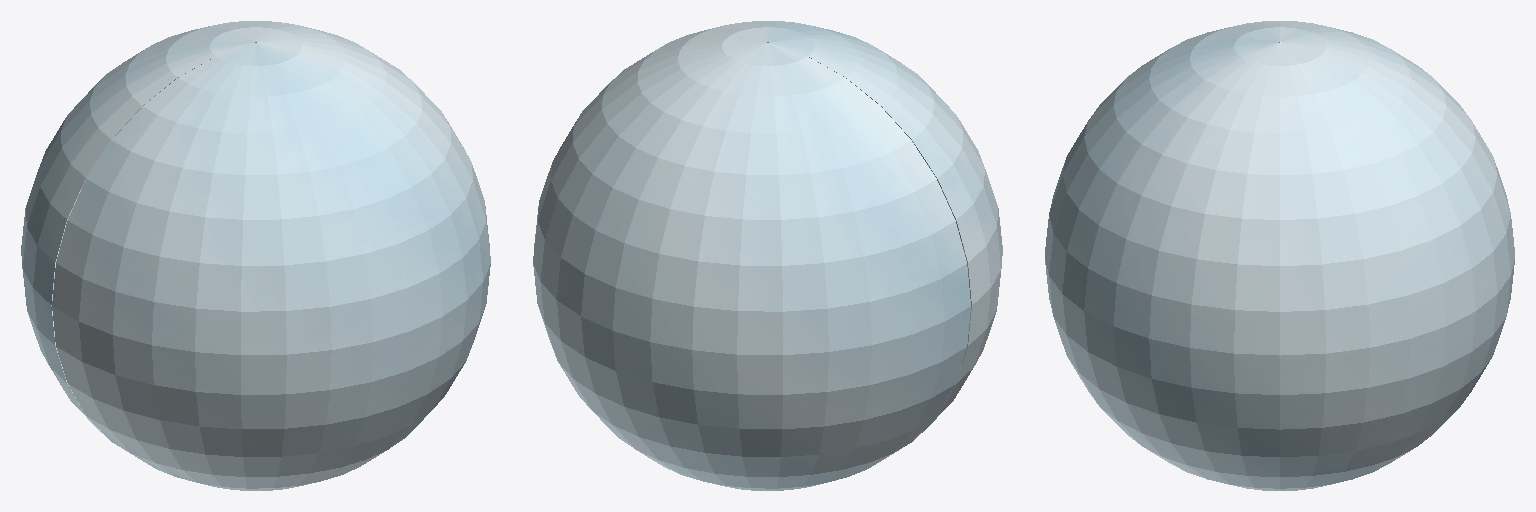
3 renders of one model, left to right at view 1: azimuth 30°, elevation 25°; view 2: azimuth 150°, elevation 25°; view 3: azimuth 270°, elevation 25°, orthographic.
Parts seen in each view (by area): view 1: Sphere15; view 2: Sphere15; view 3: Sphere15.
Boxes of the visible parts, box(x1,y1,x2,y2) form: Sphere15: box(21, 21, 490, 490); Sphere15: box(533, 21, 1002, 490); Sphere15: box(1045, 21, 1514, 490).
Size of the model in its own units: 2 by 2 by 2.
Materials: 1 (1 with a texture image).